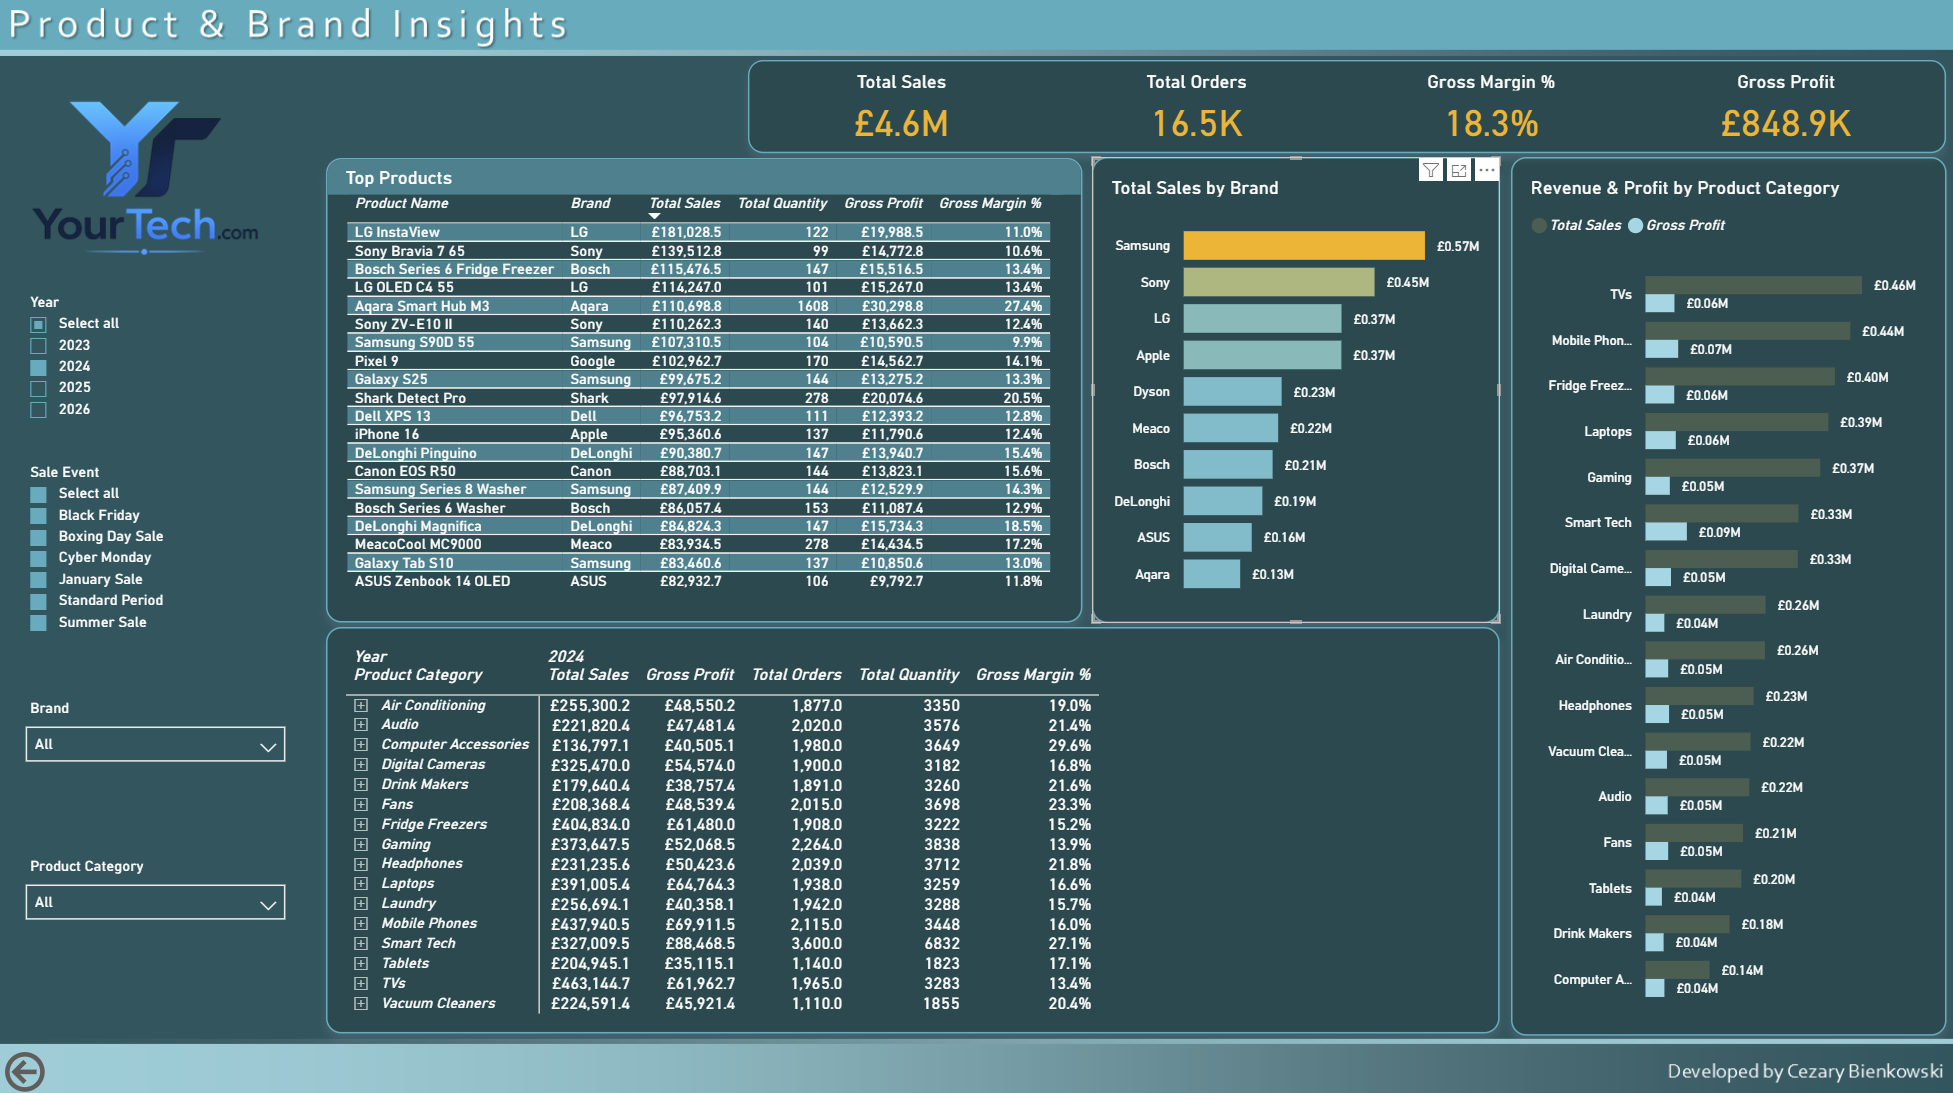

Layout of this report page (visuals, bound fields, positions):
{"tool":"powerbi","page":{"name":"Product & Brand Insights","canvas":[1280,720],"ordinal":4},"visuals":[{"type":"clusteredBarChart","title":"Revenue & Profit by Product Category","fields":{"Y":["_Measures.Total Sales","_Measures.Gross Profit"],"Category":["dProducts.Product Category"]},"box":[990.1,103.4,284.7,574.6],"z":0},{"type":"cardVisual","fields":{"Data":["_Measures.Total Sales","_Measures.Total Orders","_Measures.Profit Margin %","_Measures.Gross Profit"]},"box":[491.1,39.7,783.9,60.6],"z":1000},{"type":"barChart","fields":{"Category":["dProducts.Brand"],"Y":["_Measures.Total Sales"]},"box":[716.1,103.1,266.8,305],"z":2000},{"type":"tableEx","title":"Top Products","fields":{"Values":["dProducts.Product Name","dProducts.Brand","_Measures.Total Sales","_Measures.Total Quantity","_Measures.Gross Profit","_Measures.Gross Margin %"]},"box":[214.9,103.8,495.4,304.3],"z":3000},{"type":"pivotTable","fields":{"Rows":["dProducts.Product Category","dProducts.Brand","dProducts.Product Name"],"Columns":["dDate.Year"],"Values":["_Measures.Total Sales","_Measures.Gross Profit","_Measures.Total Orders","_Measures.Total Quantity"]},"box":[214.6,412.3,768.3,265.7],"z":4000},{"type":"slicer","fields":{"Values":["dDate.Year"]},"box":[13,192.5,179.6,90.1],"z":5000},{"type":"slicer","fields":{"Values":["dSale Event.Sale_Event_Name"]},"box":[13.1,303.6,179.3,130.9],"z":6000},{"type":"slicer","fields":{"Values":["dProducts.Brand"]},"box":[13,457.9,180.3,80],"z":7000},{"type":"slicer","fields":{"Values":["dProducts.Product Category"]},"box":[13,561.8,180.3,42.5],"z":8000},{"type":"actionButton","box":[0,684.3,100.2,35.2],"z":9000}]}

Visuals, with their boxes in screenshot pixels (x1, y1, x2, y2), scaled from the page's 1280x720 canvas onto the 1953x1093 screenshot:
"Revenue & Profit by Product Category" clusteredBarChart: <bbox>1511, 157, 1945, 1029</bbox>
cardVisual - _Measures.Total Sales x _Measures.Total Orders: <bbox>749, 60, 1945, 152</bbox>
barChart - dProducts.Brand x _Measures.Total Sales: <bbox>1093, 157, 1500, 620</bbox>
"Top Products" tableEx: <bbox>328, 158, 1084, 620</bbox>
pivotTable - dProducts.Product Category x dProducts.Brand: <bbox>327, 626, 1500, 1029</bbox>
slicer - dDate.Year: <bbox>20, 292, 294, 429</bbox>
slicer - dSale Event.Sale_Event_Name: <bbox>20, 461, 294, 660</bbox>
slicer - dProducts.Brand: <bbox>20, 695, 295, 817</bbox>
slicer - dProducts.Product Category: <bbox>20, 853, 295, 917</bbox>
actionButton: <bbox>0, 1039, 153, 1092</bbox>
